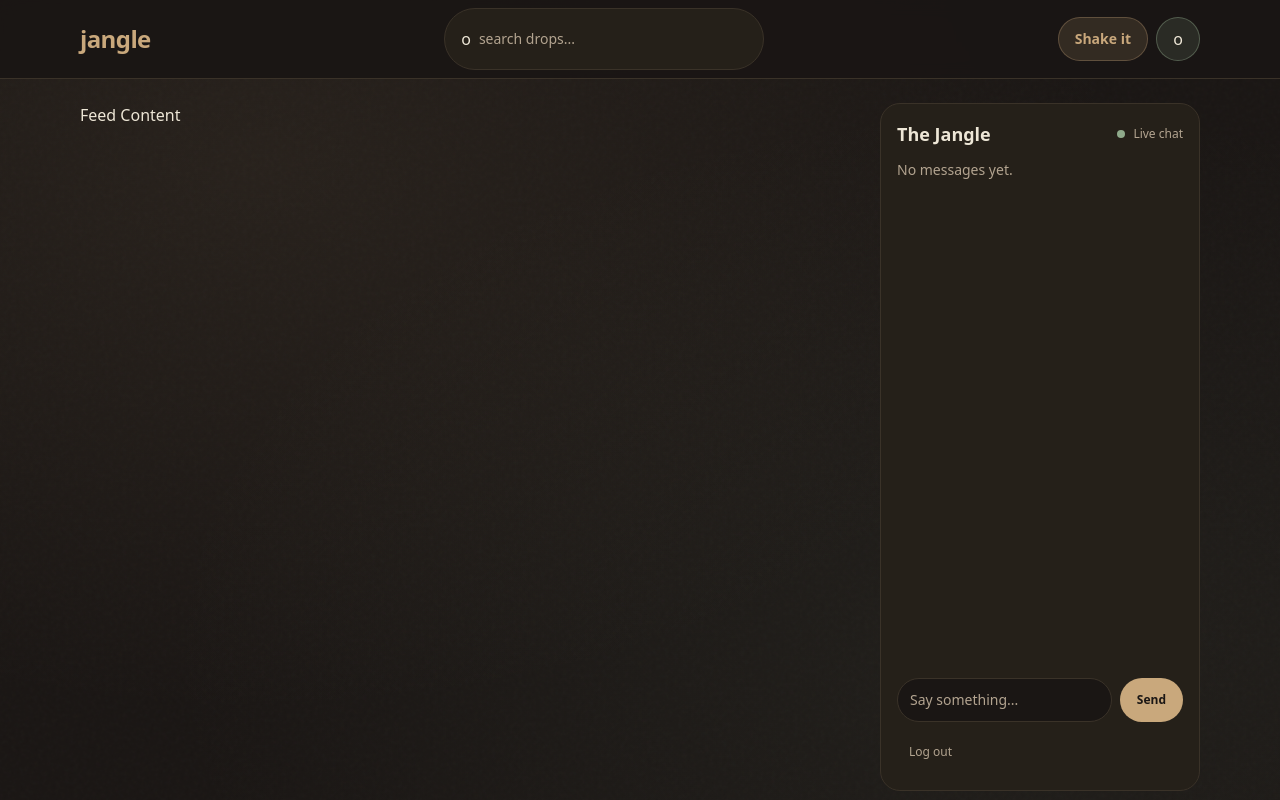
Test case: Layout shell › keeps chronological order and deduplicates optimistic plus websocket echo
Expected: the text "No messages yet." is shown, [897,160,1013,179]
In the field named "chat message": (1004, 700) [897,678,1112,722], type "dupe me"
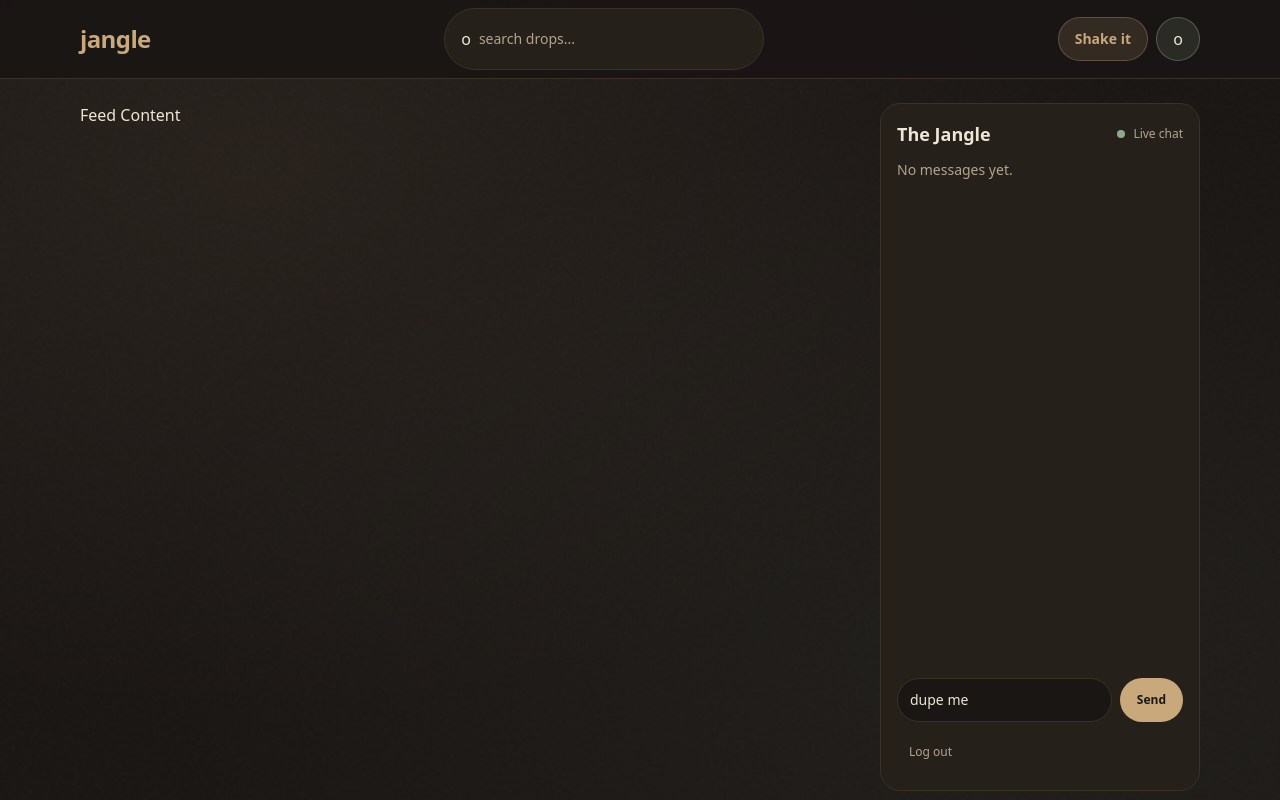
Click the button with aria-label "send chat message": (1151, 700) [1120,678,1183,722]
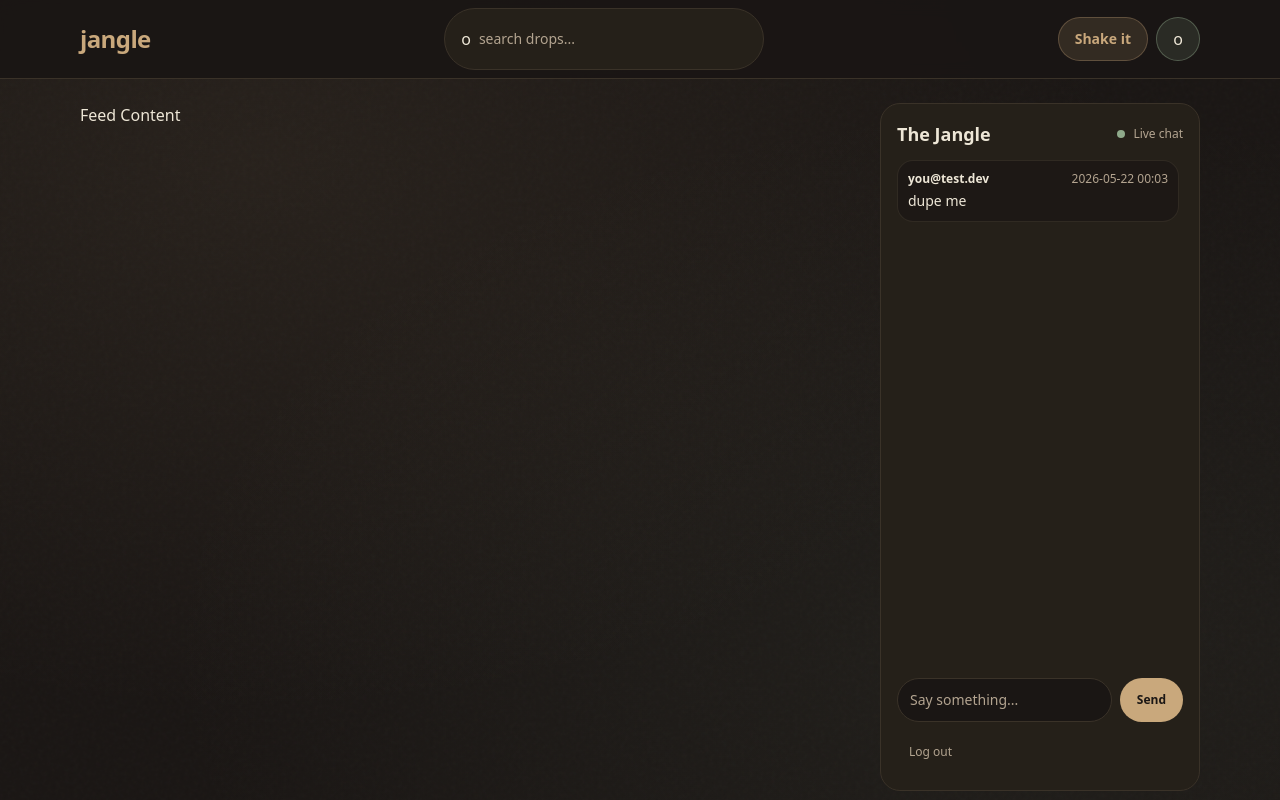
Expected: the text "dupe me" is shown once, [908,191,966,210]
Expected: the text "dupe me" is shown, [908,191,966,210]
